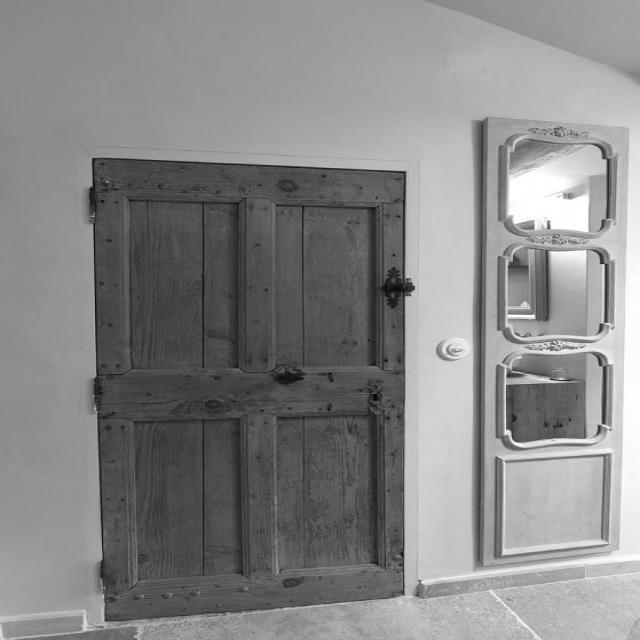door: (90, 156, 409, 621)
